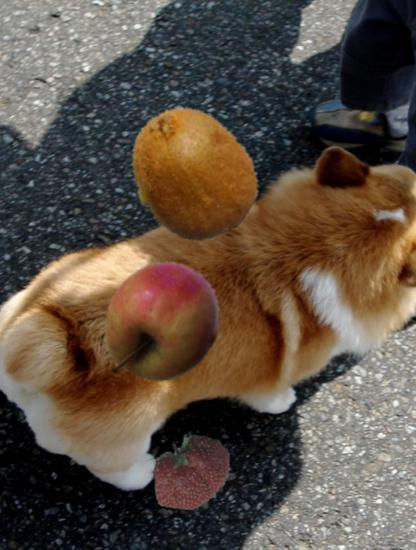Apple: (96, 259, 227, 390)
Kiwi: (124, 104, 265, 245)
Strawberry: (146, 429, 234, 517)
